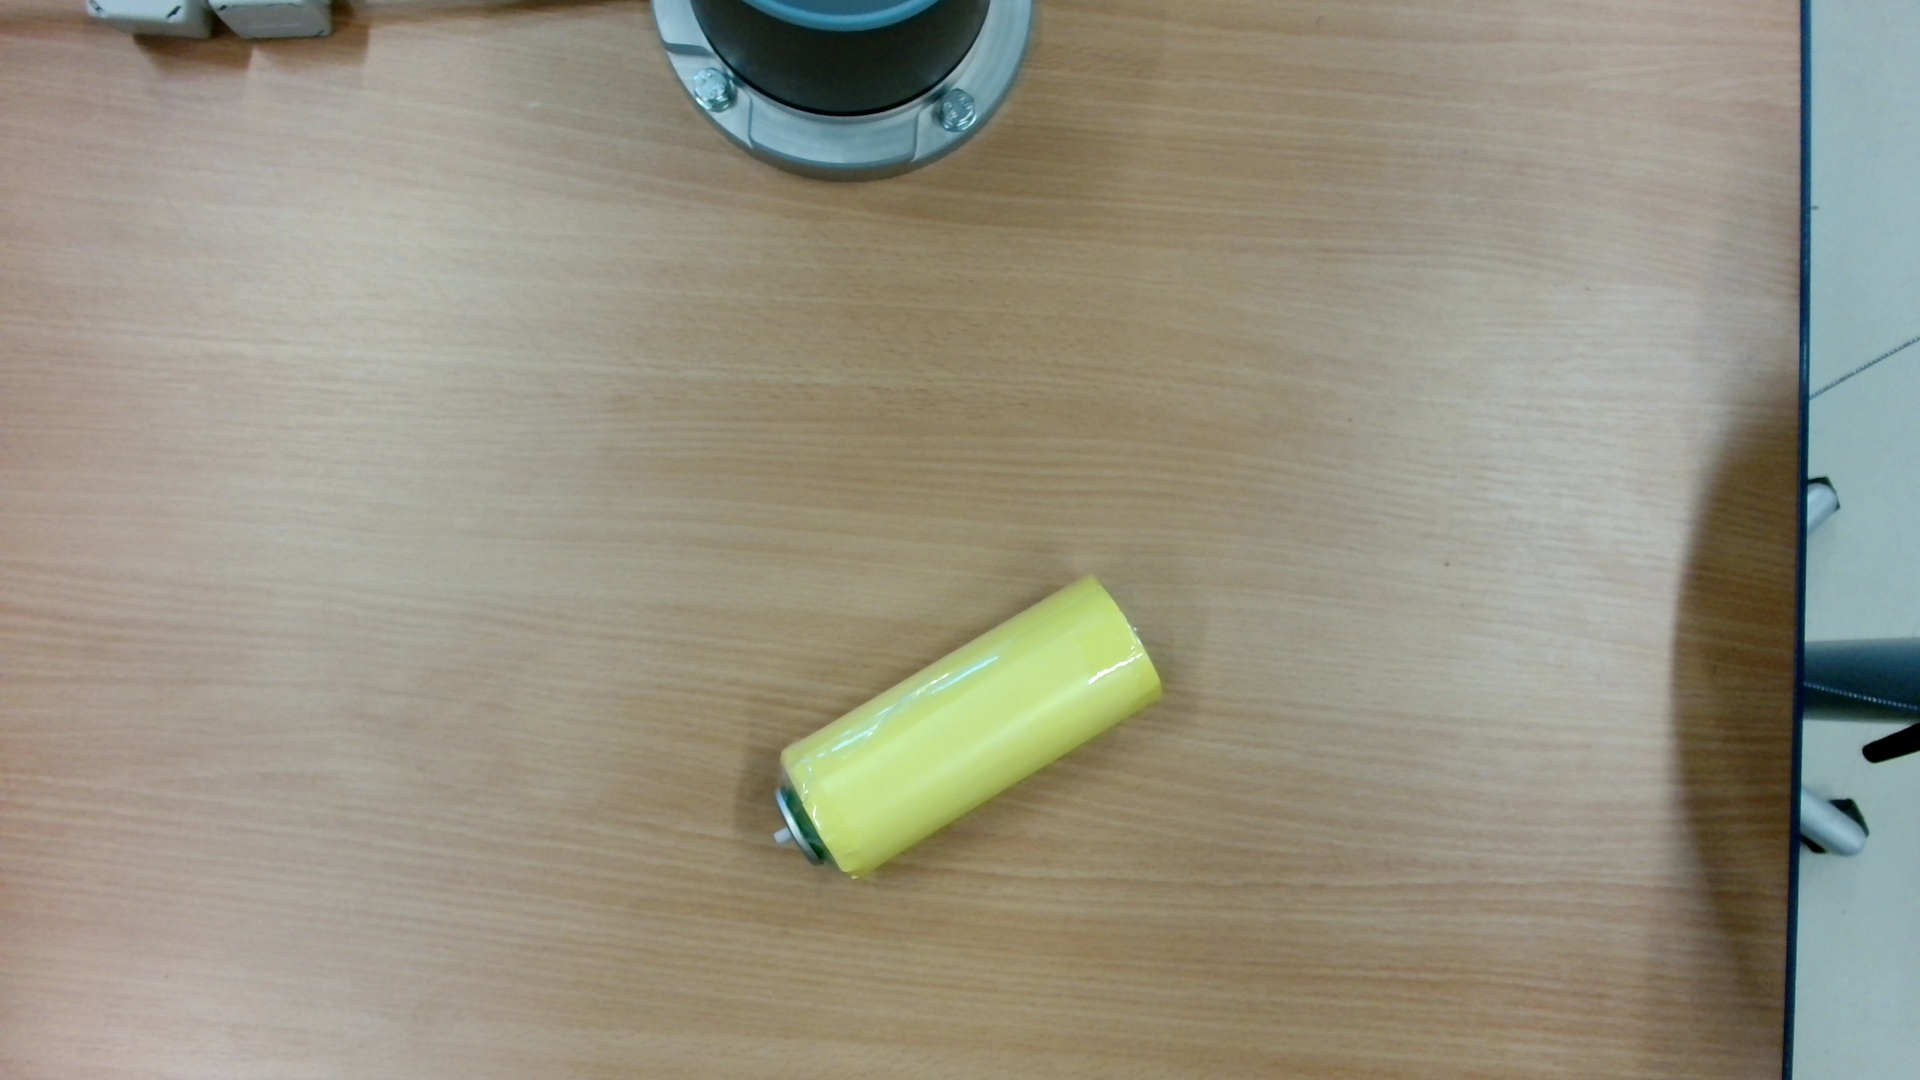Cylinder: (752, 553, 1172, 901)
